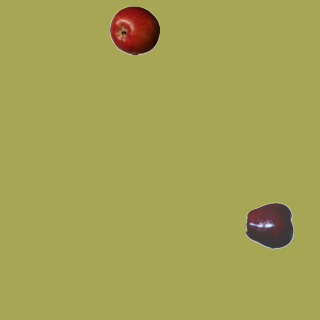Apple Braeburn: (109, 5, 159, 55)
Apple Red Delicious: (245, 200, 295, 250)
